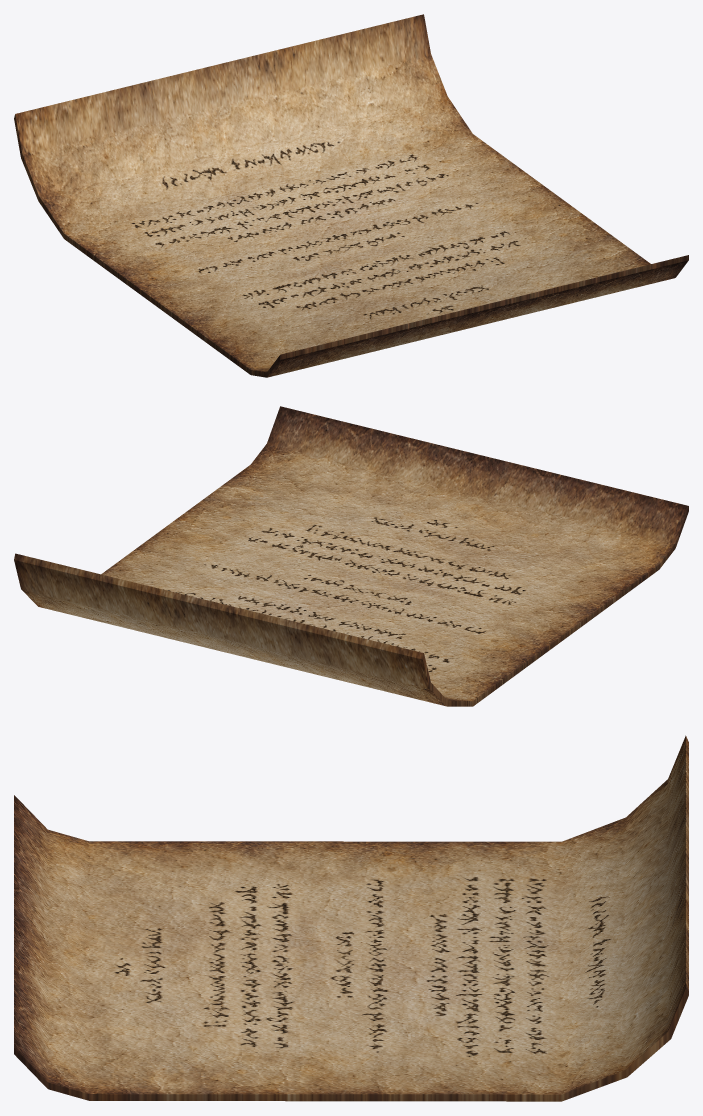
The model's file is mm9_deco_scrollp90.glb.
3 views of the same model, one above another, from view 1: azimuth 30°, elevation 25°; view 2: azimuth 150°, elevation 25°; view 3: azimuth 270°, elevation 25° (orthographic). The views are drawn at different scales.
Visible parts, largest first — view 1: Scrollp90; view 2: Scrollp90; view 3: Scrollp90.
Boxes of the visible parts, x1,y1,x2,y2 form: Scrollp90: [14, 14, 688, 377]; Scrollp90: [14, 406, 688, 706]; Scrollp90: [14, 735, 688, 1101].
Bounding box in the file's own units: 0.506 × 0.1057 × 0.5708.
Materials: 1 (1 with a texture image).
